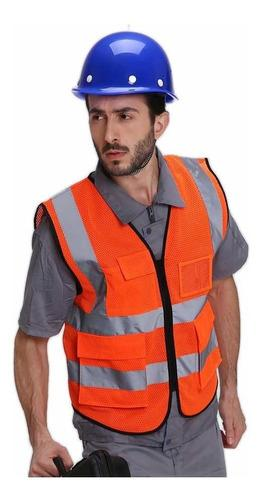hat: (60, 15, 189, 112)
vest: (26, 135, 250, 446)
